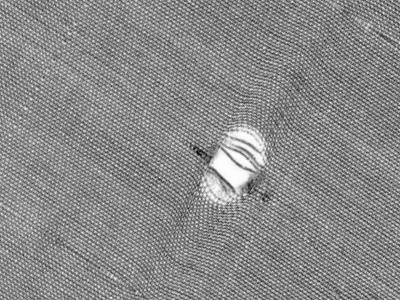hole: (196, 121, 271, 210)
